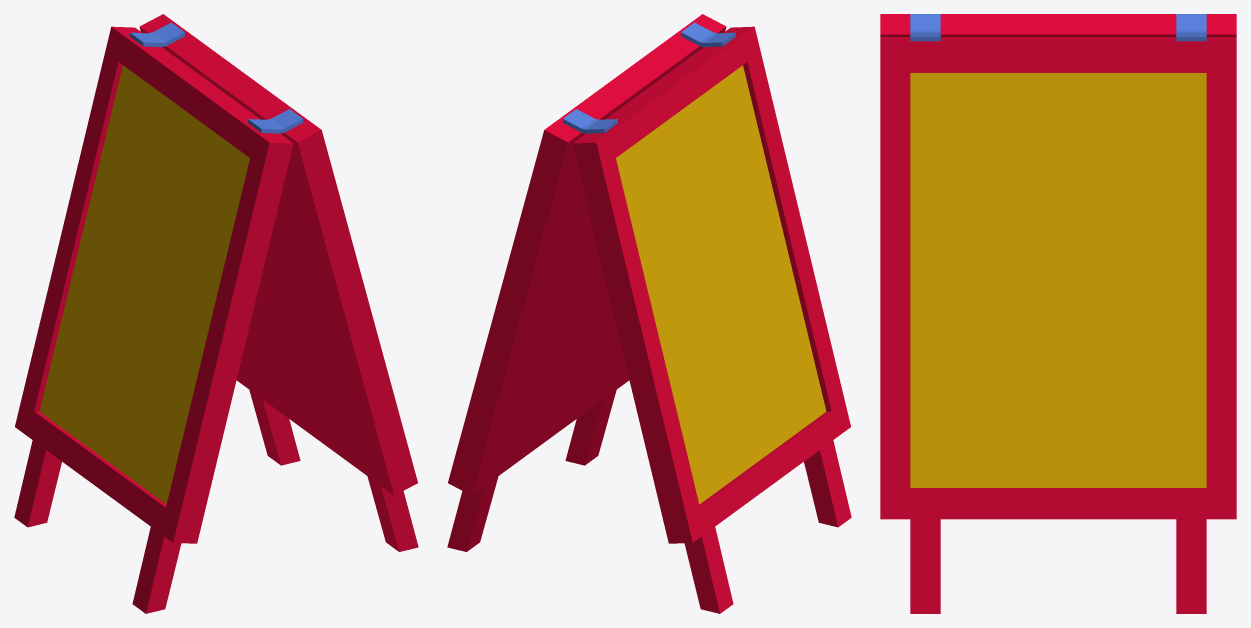
File: lavagna.fbx
3 renders of one model, left to right at view 1: azimuth 30°, elevation 25°; view 2: azimuth 150°, elevation 25°; view 3: azimuth 270°, elevation 25°, orthographic. The views are drawn at different scales.
Parts seen in each view (by area): view 1: Cube; view 2: Cube; view 3: Cube.
Boxes of the visible parts, x1=… form: Cube: x1=14, y1=14, x2=418, y2=613; Cube: x1=447, y1=14, x2=851, y2=613; Cube: x1=880, y1=14, x2=1236, y2=613.
Size of the model in its own units: 199 by 318 by 200.
